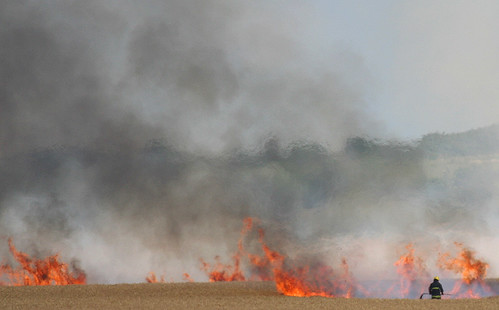fire: (201, 217, 360, 300), (383, 239, 499, 304), (1, 226, 95, 288)
firefighter: (420, 274, 446, 301)
sky: (1, 1, 485, 235)
